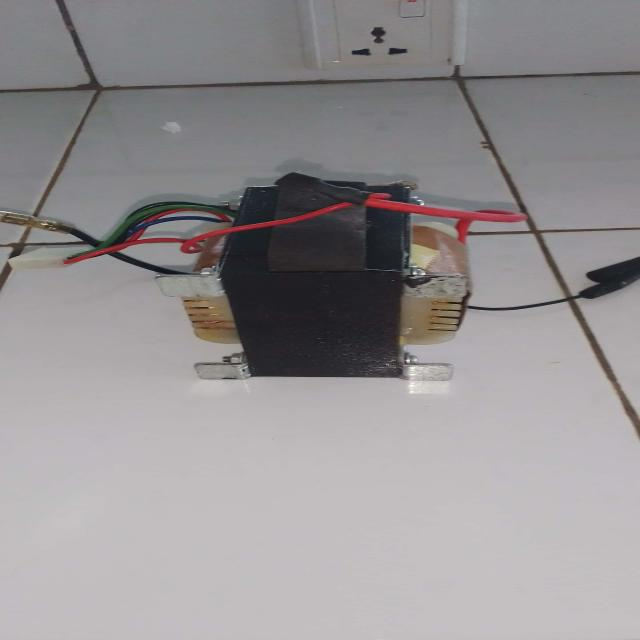Stepdown Transformer: (168, 160, 512, 400)
